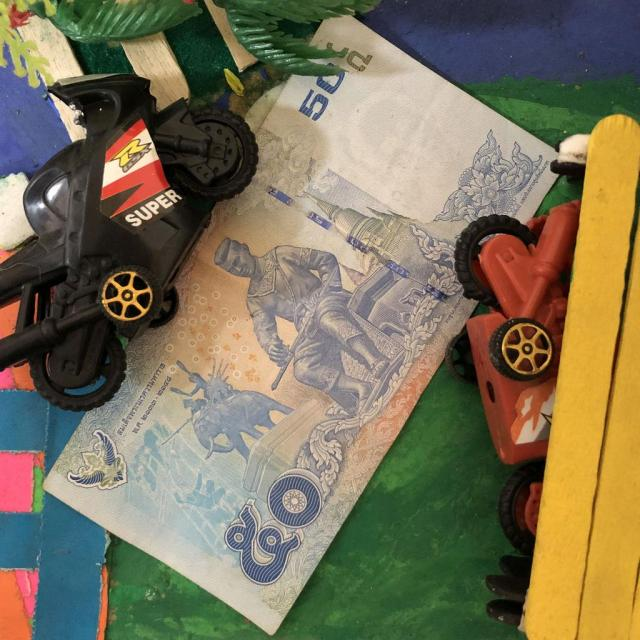THAI50: (46, 19, 554, 634)
